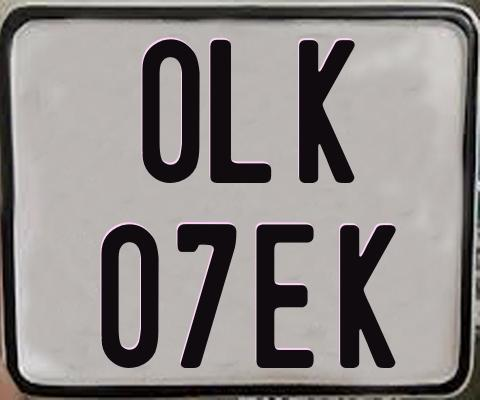0: (101, 224, 160, 374), (142, 38, 203, 182)
7: (175, 224, 240, 371)
E: (255, 224, 319, 368)
K: (339, 224, 398, 373), (298, 38, 357, 186)
L: (207, 38, 273, 181)
